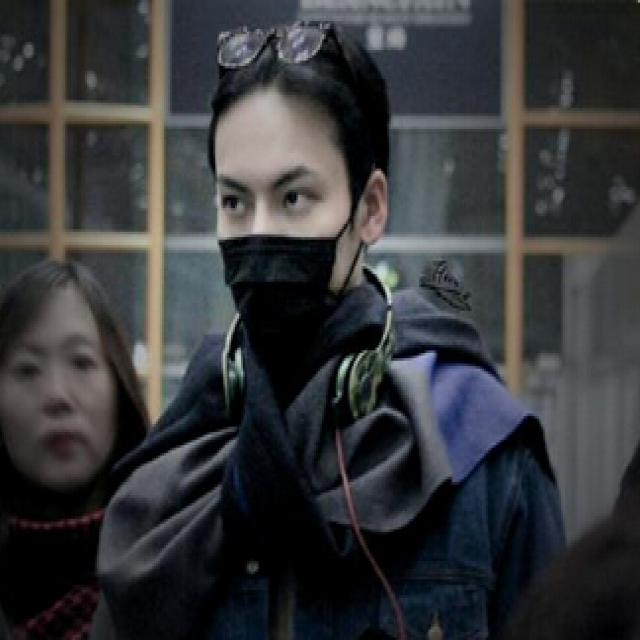mask: (210, 94, 356, 322)
nomask: (2, 291, 113, 483)
